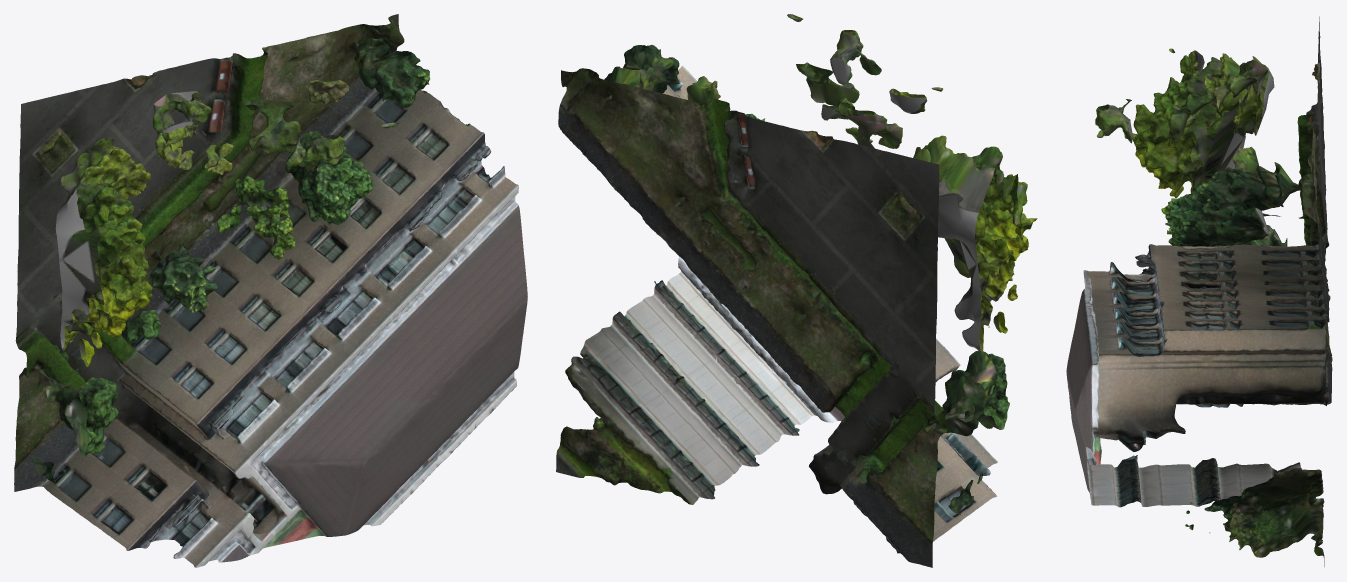
File: Tile_+011_+019.fbx
3 views of the same model, side by side, from view 1: azimuth 30°, elevation 25°; view 2: azimuth 150°, elevation 25°; view 3: azimuth 270°, elevation 25° (orthographic). The views are drawn at different scales.
Visible parts, largest first — view 1: DefaultName; view 2: DefaultName; view 3: DefaultName.
Part boxes in pixels (bbox=[...]): DefaultName: bbox=[14, 14, 527, 567]; DefaultName: bbox=[556, 14, 1037, 567]; DefaultName: bbox=[1066, 16, 1332, 566].
Size of the model in its own units: 22.54 by 22.54 by 14.39.
